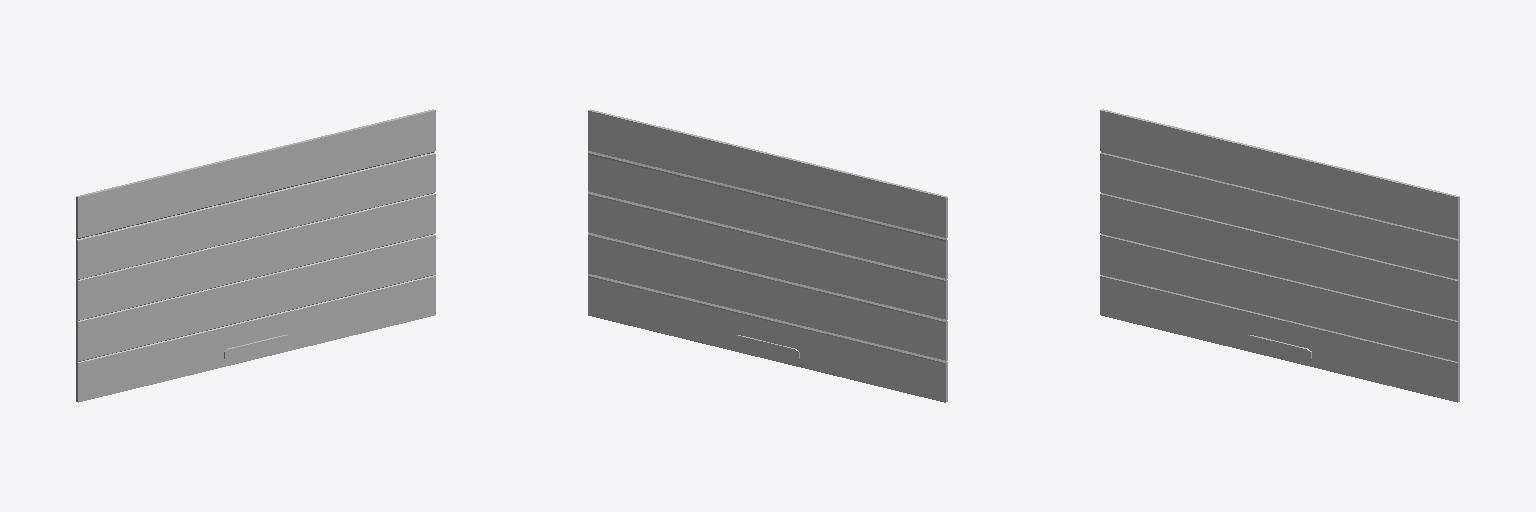
File: Buildings02_Commercial door.obj
3 views of the same model, side by side, from view 1: azimuth 30°, elevation 25°; view 2: azimuth 150°, elevation 25°; view 3: azimuth 330°, elevation 25° (orthographic).
Parts seen in each view (by area): view 1: Plane.003; view 2: Plane.003; view 3: Plane.003.
Part boxes in pixels (x1,y1,x2,y2): Plane.003: (76, 109, 435, 402); Plane.003: (588, 109, 947, 402); Plane.003: (1100, 109, 1459, 402).
Bounding box in the file's own units: 5.41 × 2.96 × 0.0942.